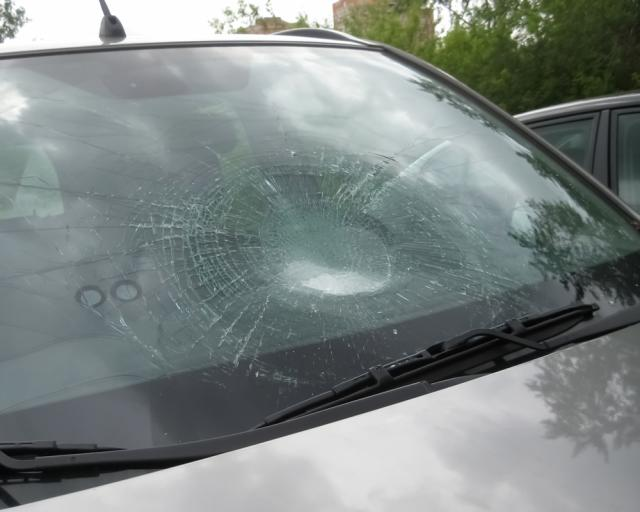glass shatter: (0, 44, 640, 449)
